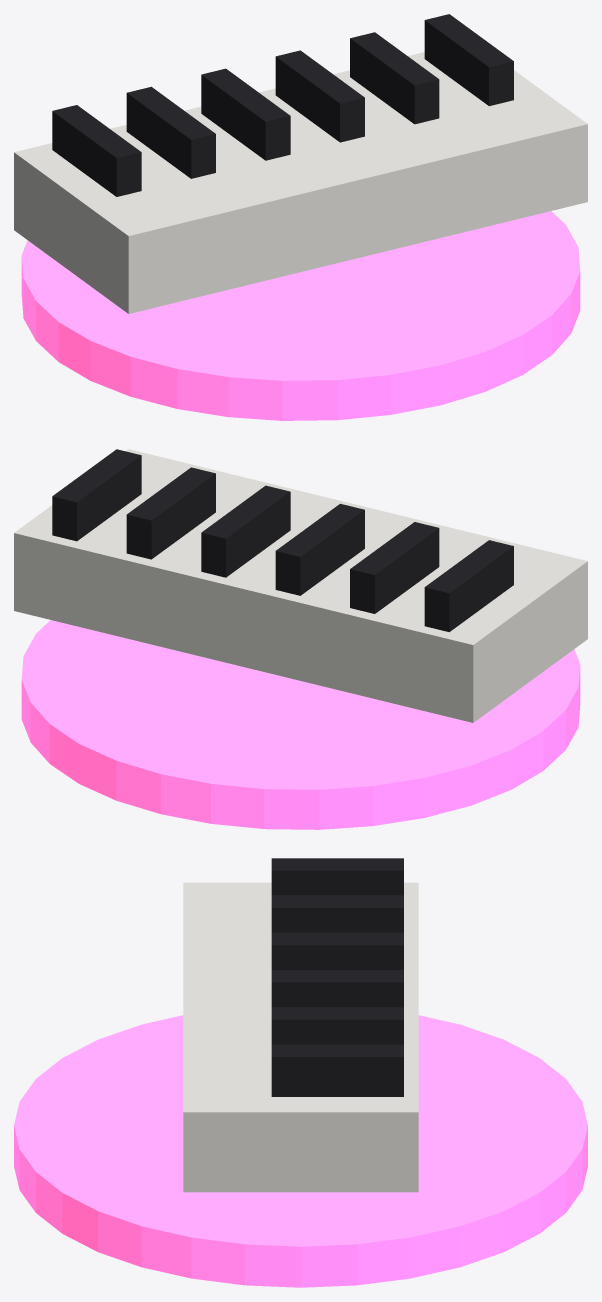
File: music_keyboard.glb
3 renders of one model, top to bottom at view 1: azimuth 30°, elevation 25°; view 2: azimuth 150°, elevation 25°; view 3: azimuth 270°, elevation 25°, orthographic. The views are drawn at different scales.
Parts seen in each view (by area): view 1: 07_06_Popular_Music_Keyboard_part_01, 07_06_Popular_Music_Keyboard_ROOT_base, 07_06_Popular_Music_Keyboard_part_04, 07_06_Popular_Music_Keyboard_part_05, 07_06_Popular_Music_Keyboard_part_06, 07_06_Popular_Music_Keyboard_part_07, 07_06_Popular_Music_Keyboard_part_02, 07_06_Popular_Music_Keyboard_part_03; view 2: 07_06_Popular_Music_Keyboard_ROOT_base, 07_06_Popular_Music_Keyboard_part_01, 07_06_Popular_Music_Keyboard_part_05, 07_06_Popular_Music_Keyboard_part_03, 07_06_Popular_Music_Keyboard_part_04, 07_06_Popular_Music_Keyboard_part_06, 07_06_Popular_Music_Keyboard_part_07, 07_06_Popular_Music_Keyboard_part_02; view 3: 07_06_Popular_Music_Keyboard_ROOT_base, 07_06_Popular_Music_Keyboard_part_01, 07_06_Popular_Music_Keyboard_part_07, 07_06_Popular_Music_Keyboard_part_03, 07_06_Popular_Music_Keyboard_part_06, 07_06_Popular_Music_Keyboard_part_02, 07_06_Popular_Music_Keyboard_part_04, 07_06_Popular_Music_Keyboard_part_05.
Boxes of the visible parts, left/top/right/bottom form: 07_06_Popular_Music_Keyboard_part_01: left=14, top=52, right=587, bottom=313; 07_06_Popular_Music_Keyboard_ROOT_base: left=21, top=211, right=580, bottom=420; 07_06_Popular_Music_Keyboard_part_04: left=201, top=68, right=290, bottom=160; 07_06_Popular_Music_Keyboard_part_05: left=275, top=50, right=364, bottom=142; 07_06_Popular_Music_Keyboard_part_06: left=350, top=32, right=439, bottom=124; 07_06_Popular_Music_Keyboard_part_07: left=424, top=14, right=513, bottom=106; 07_06_Popular_Music_Keyboard_part_02: left=52, top=105, right=141, bottom=196; 07_06_Popular_Music_Keyboard_part_03: left=126, top=86, right=215, bottom=178; 07_06_Popular_Music_Keyboard_ROOT_base: left=21, top=620, right=580, bottom=829; 07_06_Popular_Music_Keyboard_part_01: left=14, top=449, right=587, bottom=722; 07_06_Popular_Music_Keyboard_part_05: left=201, top=485, right=290, bottom=577; 07_06_Popular_Music_Keyboard_part_03: left=350, top=522, right=439, bottom=613; 07_06_Popular_Music_Keyboard_part_04: left=275, top=503, right=364, bottom=595; 07_06_Popular_Music_Keyboard_part_06: left=126, top=467, right=215, bottom=559; 07_06_Popular_Music_Keyboard_part_07: left=52, top=449, right=141, bottom=541; 07_06_Popular_Music_Keyboard_part_02: left=424, top=540, right=513, bottom=632; 07_06_Popular_Music_Keyboard_ROOT_base: left=14, top=1015, right=587, bottom=1287; 07_06_Popular_Music_Keyboard_part_01: left=183, top=882, right=418, bottom=1192; 07_06_Popular_Music_Keyboard_part_07: left=271, top=1044, right=403, bottom=1096; 07_06_Popular_Music_Keyboard_part_03: left=271, top=895, right=403, bottom=932; 07_06_Popular_Music_Keyboard_part_06: left=271, top=1007, right=403, bottom=1044; 07_06_Popular_Music_Keyboard_part_02: left=271, top=858, right=403, bottom=895; 07_06_Popular_Music_Keyboard_part_04: left=271, top=932, right=403, bottom=969; 07_06_Popular_Music_Keyboard_part_05: left=271, top=970, right=403, bottom=1007.
Bounding box in the file's own units: 0.76 × 0.3051 × 0.76.
